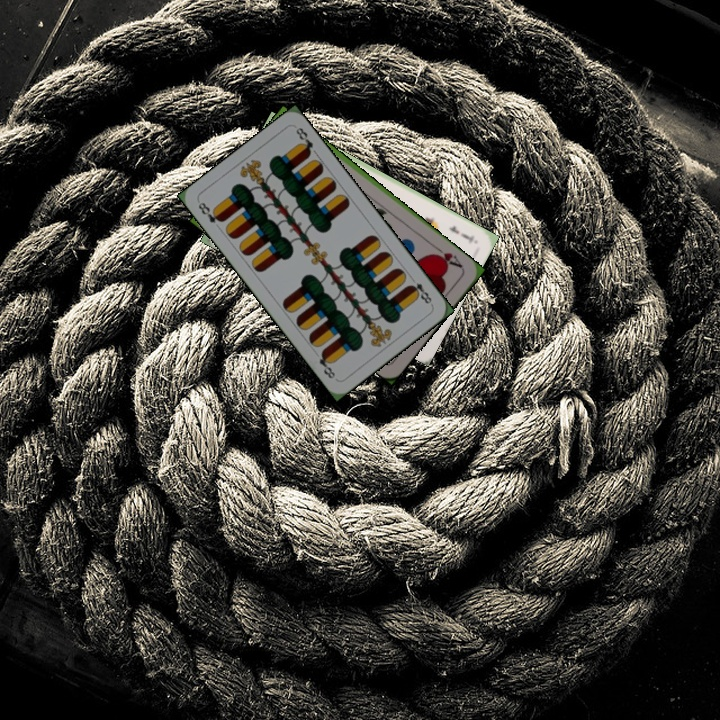E7: (445, 221, 477, 246)
E8: (405, 272, 435, 308), (194, 198, 226, 226)
HA: (429, 242, 465, 271)
